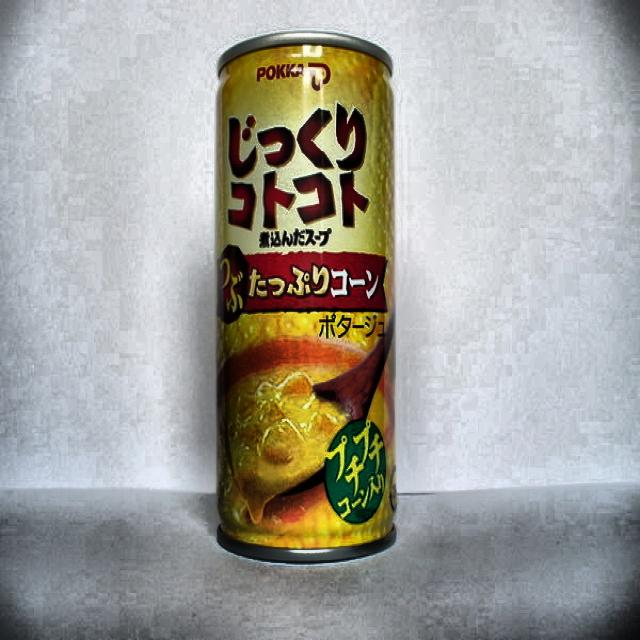can: (211, 23, 403, 574)
